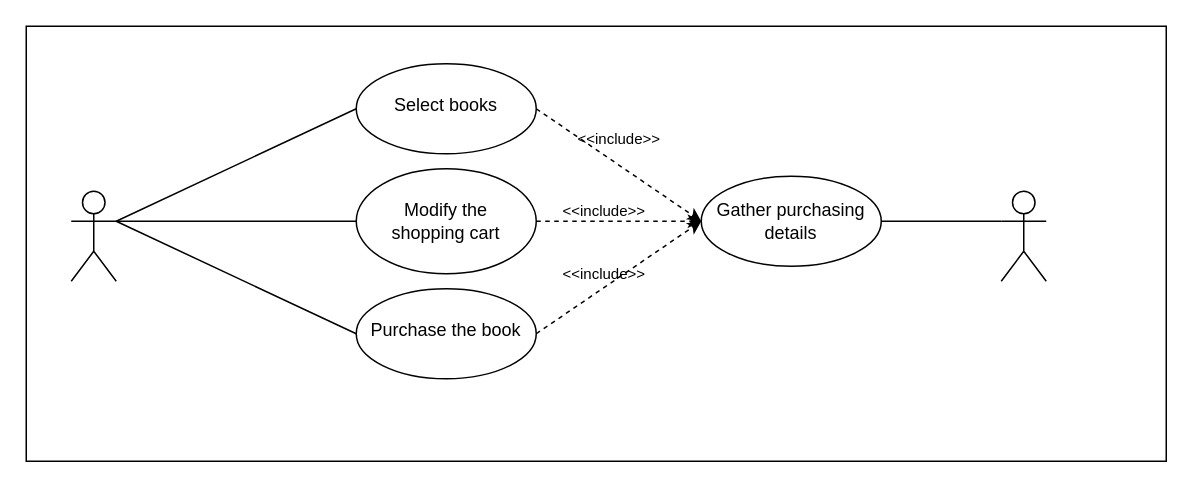
The diagram is 1193 pixels wide and 488 high, and some of its shapes have lost their labels. Each missing label, with the centre of its shape:
"Client" goes at (93,235).
"Duke's Bookstore Database" goes at (1023,235).
